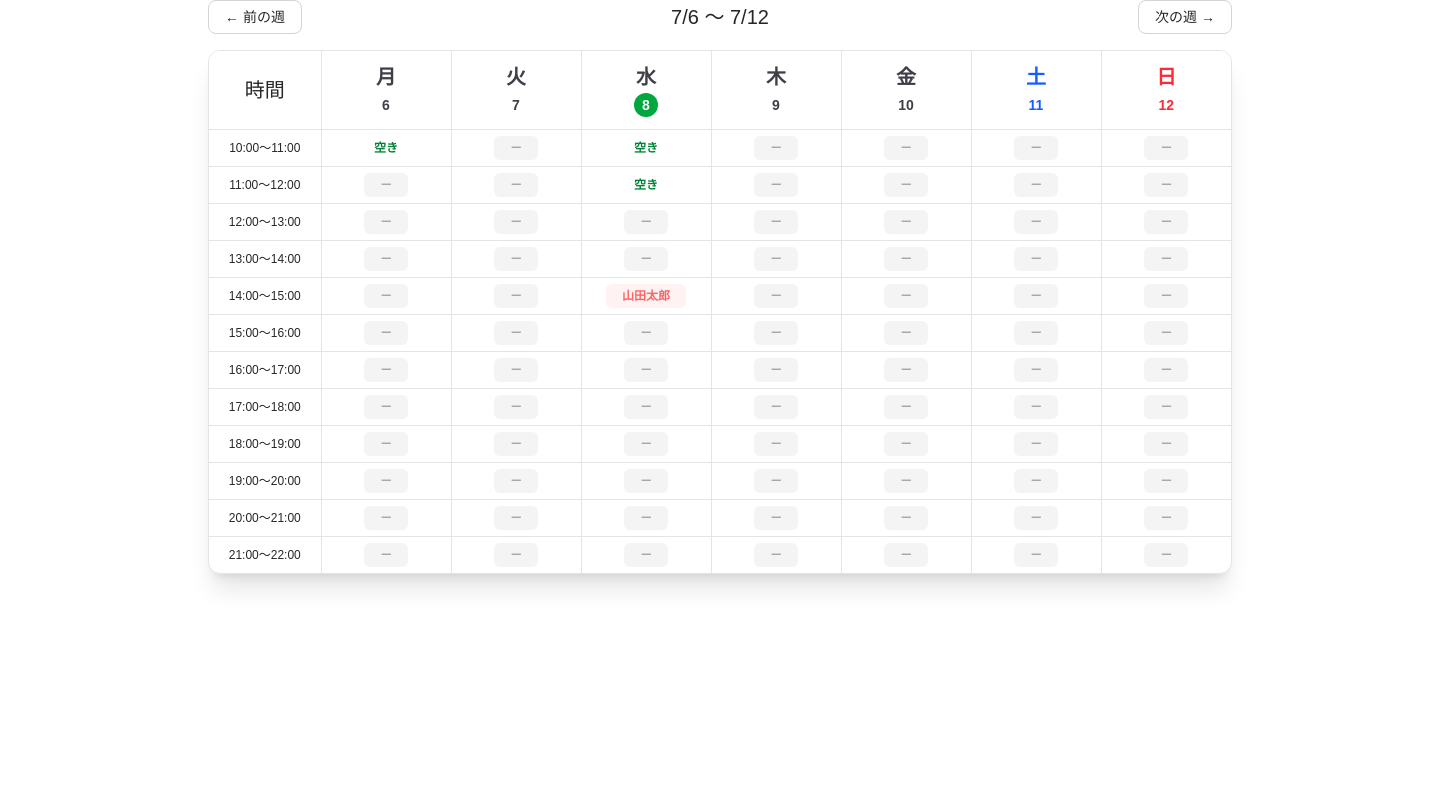
Test: AdminCalendar › 空きマスを2つ選ぶと電話予約登録モーダルが開き、登録するとAPIが呼ばれる
Check: the text "山田太郎" is shown, box top-left (622, 289), bottom-right (670, 303)
Click the 2nd cell "空き": coordinates (646, 148) top-left (581, 130), bottom-right (711, 166)
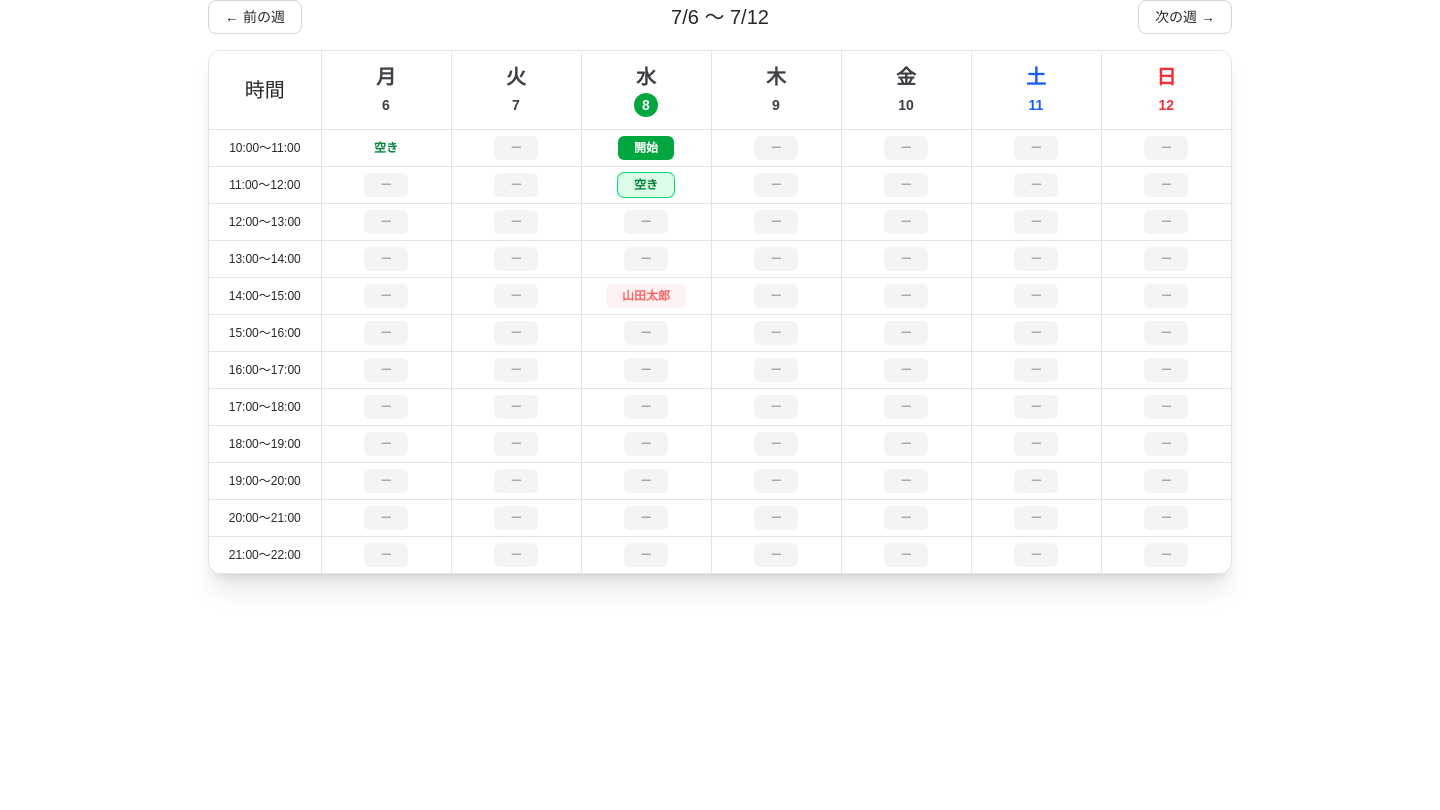
Click the 2nd cell "空き": coordinates (646, 185) top-left (581, 166), bottom-right (711, 204)
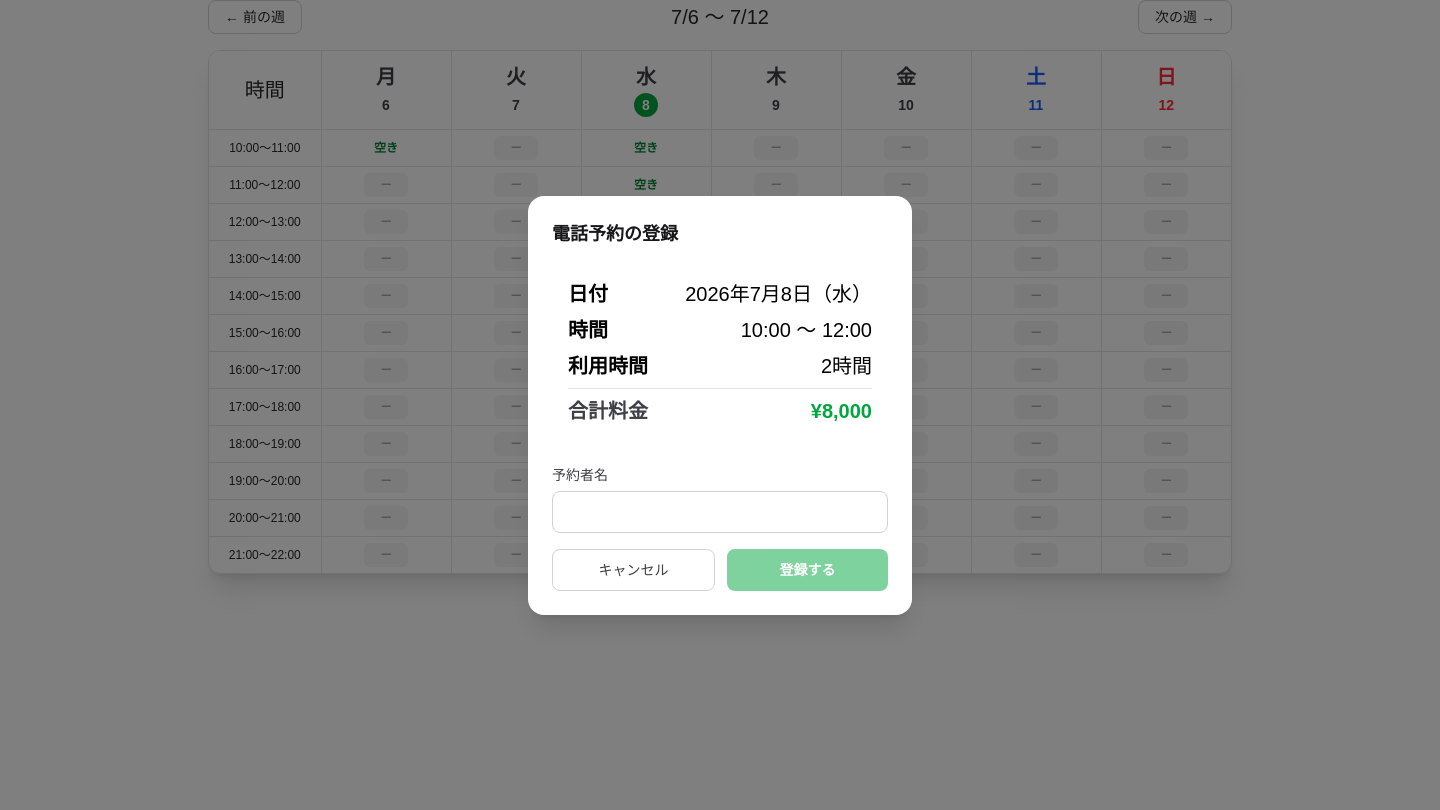
Check: the heading "電話予約の登録" is shown, box top-left (552, 224), bottom-right (678, 244)
In the field: coordinates (720, 512) top-left (552, 490), bottom-right (888, 532), type "田中花子"
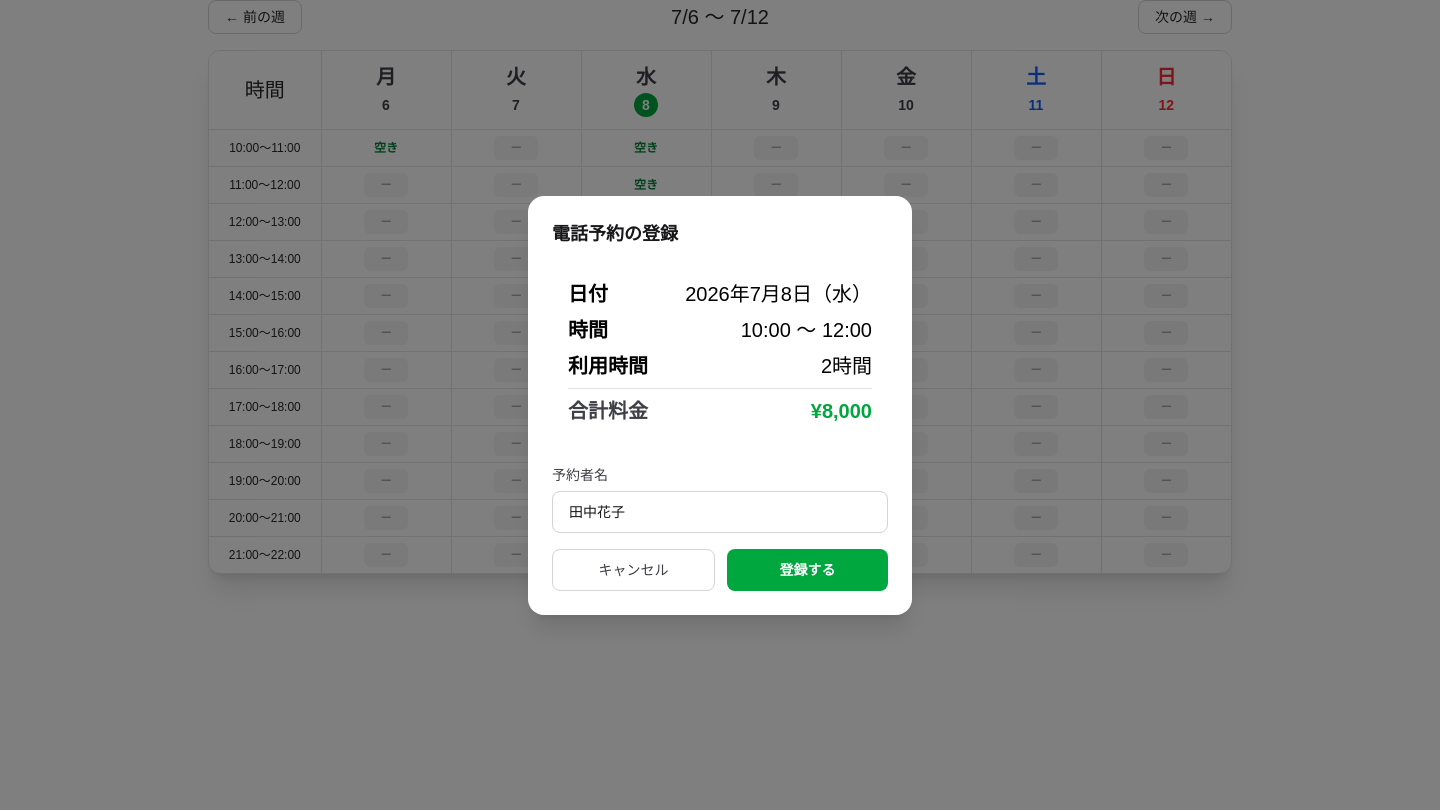
Click the button "登録する": coordinates (808, 570) top-left (727, 548), bottom-right (888, 590)
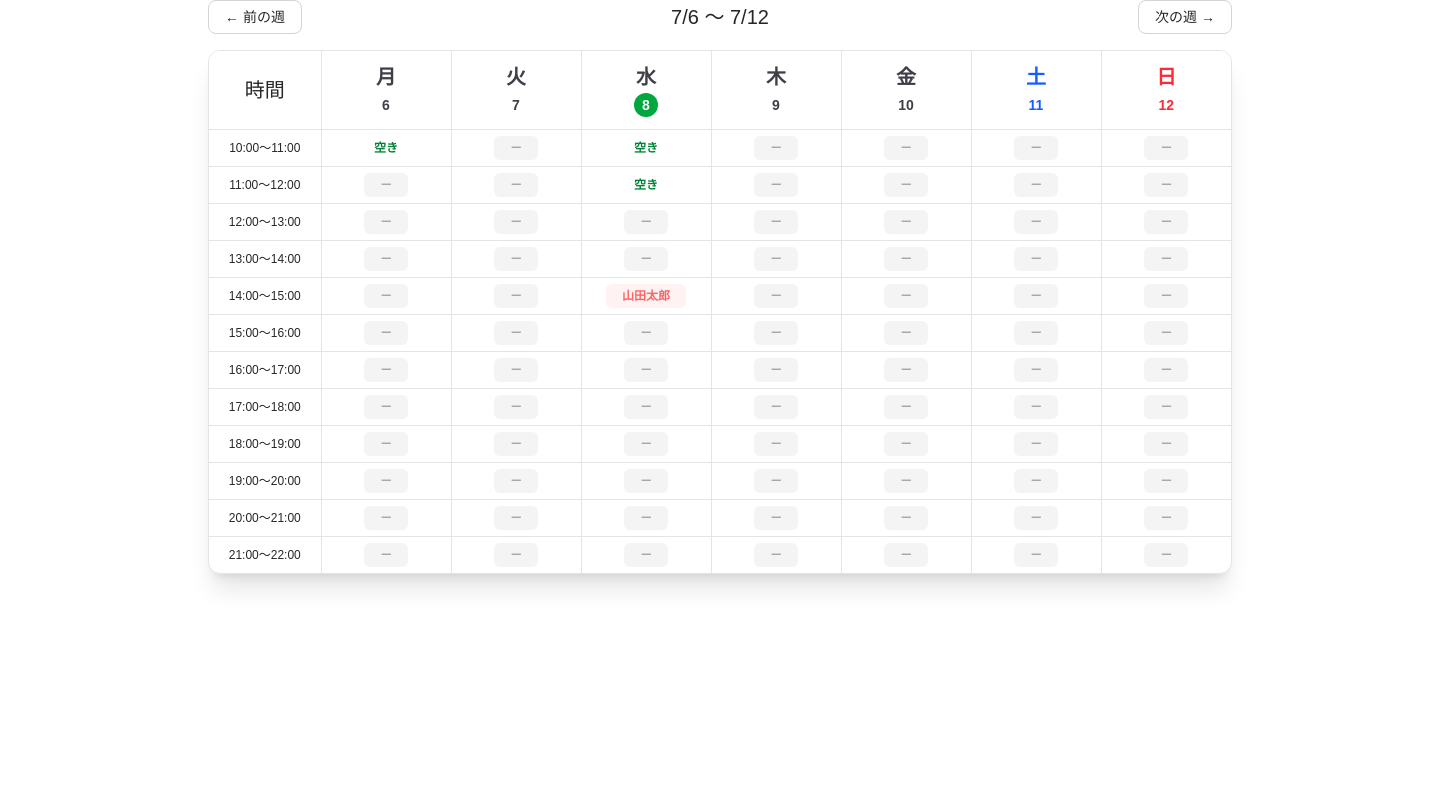
Check: the heading "電話予約の登録" is gone
